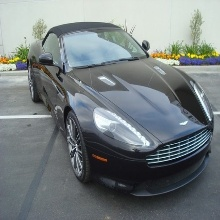no damage: (28, 22, 213, 198)
